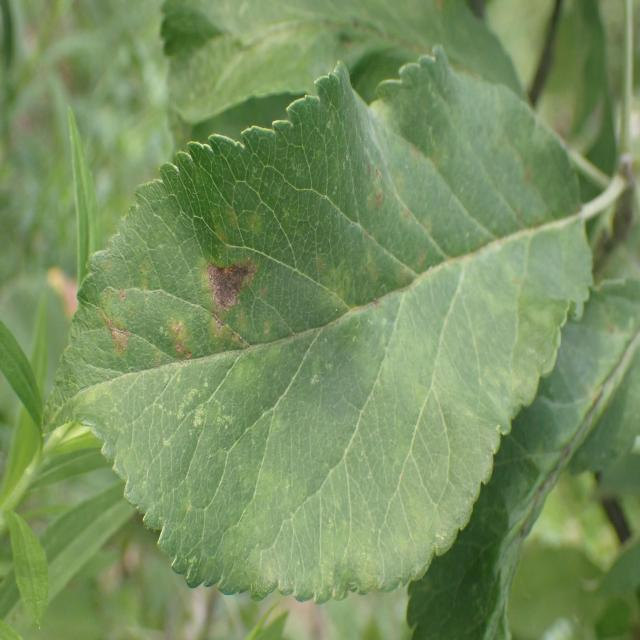scab: (58, 119, 591, 449)
